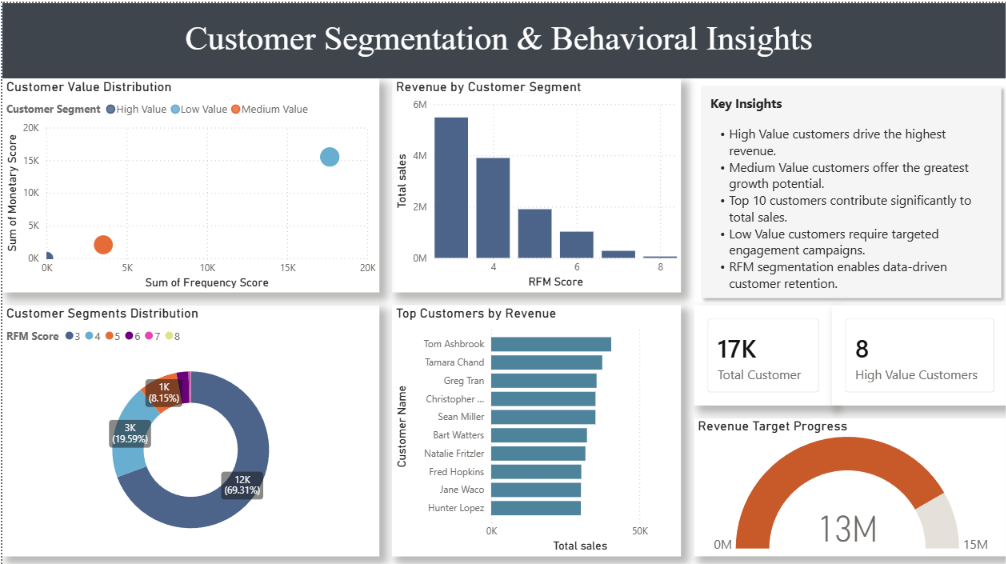

The page's visual inventory and layout, read from the dashboard file:
{"tool":"powerbi","page":{"name":"Customer","canvas":[1280,720],"ordinal":2},"visuals":[{"type":"donutChart","title":"Customer Segments Distribution","fields":{"Category":["Customer summary.RFM Score"],"Y":["Orders.Total customers"]},"box":[0,384,480,320],"z":0},{"type":"shape","box":[0,0,1280,96],"z":1000},{"type":"textbox","box":[96,16,1072,64],"z":2000},{"type":"clusteredColumnChart","title":"Revenue by Customer Segment","fields":{"Category":["Customer summary.RFM Score"],"Y":["Orders.Total sales"]},"box":[496,96,368,272],"z":3000},{"type":"clusteredBarChart","title":"Top Customers by Revenue","fields":{"Category":["Customer summary.Customer Name"],"Y":["Orders.Total sales"]},"box":[496,384,368,320],"z":4000},{"type":"scatterChart","title":"Customer Value Distribution","fields":{"X":["Sum(Customer summary.Frequency Score)"],"Y":["Sum(Customer summary.Monetary Score)"],"Category":["Orders.Customer Name"],"Size":["Sum(Orders.Sales)"],"Series":["Customer summary.Customer Segment"]},"box":[0,96,480,272],"z":5000},{"type":"cardVisual","fields":{"Data":["Count(Orders.Customer ID)"]},"box":[880,384,176,128],"z":6000},{"type":"cardVisual","fields":{"Data":["Customer summary.High Value Customers"]},"box":[1056,384,224,128],"z":7000},{"type":"gauge","title":"Revenue Target Progress","fields":{"MinValue":["Customer summary.Min Sales"],"MaxValue":["Customer summary.Max Sales"],"TargetValue":["Customer summary.Sales Target"],"Y":["Orders.Total sales"]},"box":[880,528,400,176],"z":8000},{"type":"shape","box":[880,96,400,288],"z":9000},{"type":"textbox","box":[896,112,368,272],"z":10000}]}

Visuals, with their boxes in screenshot pixels (x1, y1, x2, y2), scaled from the page's 1280x720 canvas onto the 1006x564 screenshot:
"Customer Segments Distribution" donutChart: (0, 301, 377, 551)
shape: (0, 0, 1005, 75)
textbox: (75, 13, 918, 63)
"Revenue by Customer Segment" clusteredColumnChart: (390, 75, 679, 288)
"Top Customers by Revenue" clusteredBarChart: (390, 301, 679, 551)
"Customer Value Distribution" scatterChart: (0, 75, 377, 288)
cardVisual - Count(Orders.Customer ID): (692, 301, 830, 401)
cardVisual - Customer summary.High Value Customers: (830, 301, 1005, 401)
"Revenue Target Progress" gauge: (692, 414, 1005, 551)
shape: (692, 75, 1005, 301)
textbox: (704, 88, 993, 301)
